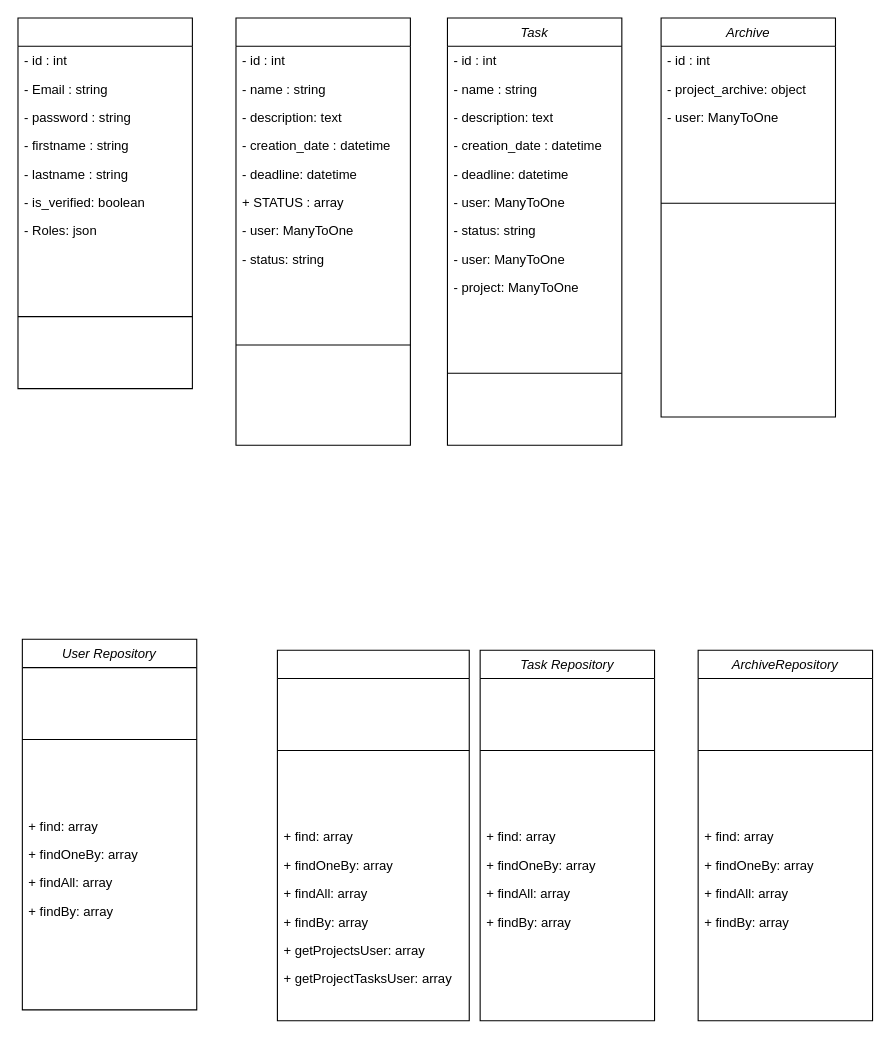
Image size: 891x1039. Some labels were removed from this diagram. Here are the shapes that lost their labels. From the top down, the box of each, then its label:
(17, 17, 192, 389): User
(235, 17, 410, 445): Project
(276, 649, 469, 1021): ProjectRepository
